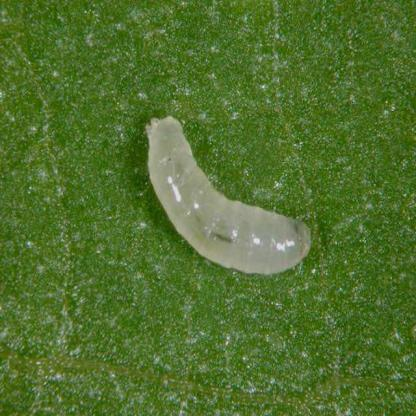whorl-maggot: (144, 112, 315, 280)
